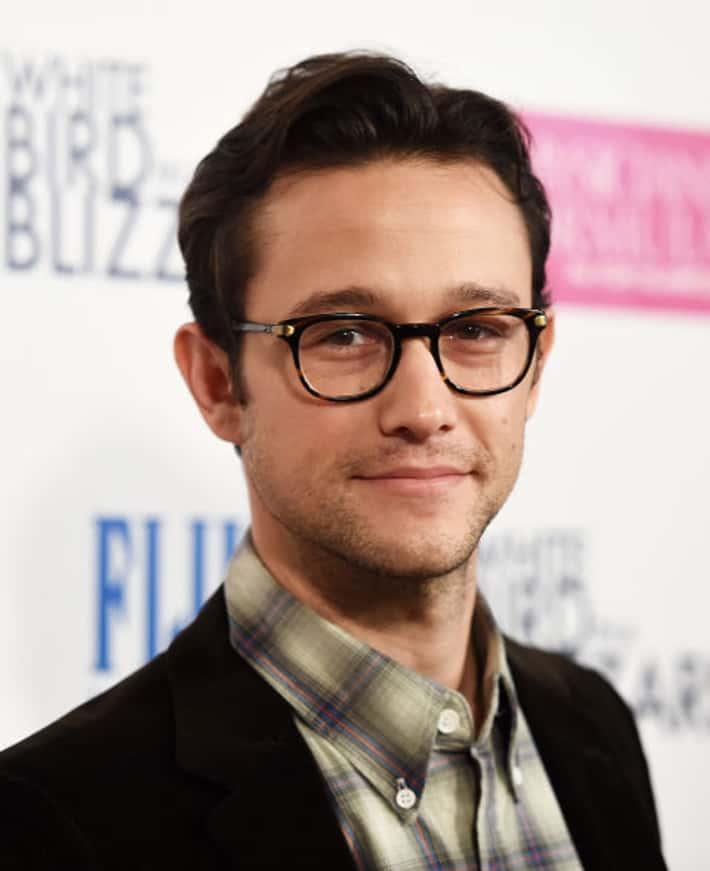Glasses: (203, 303, 569, 408)
